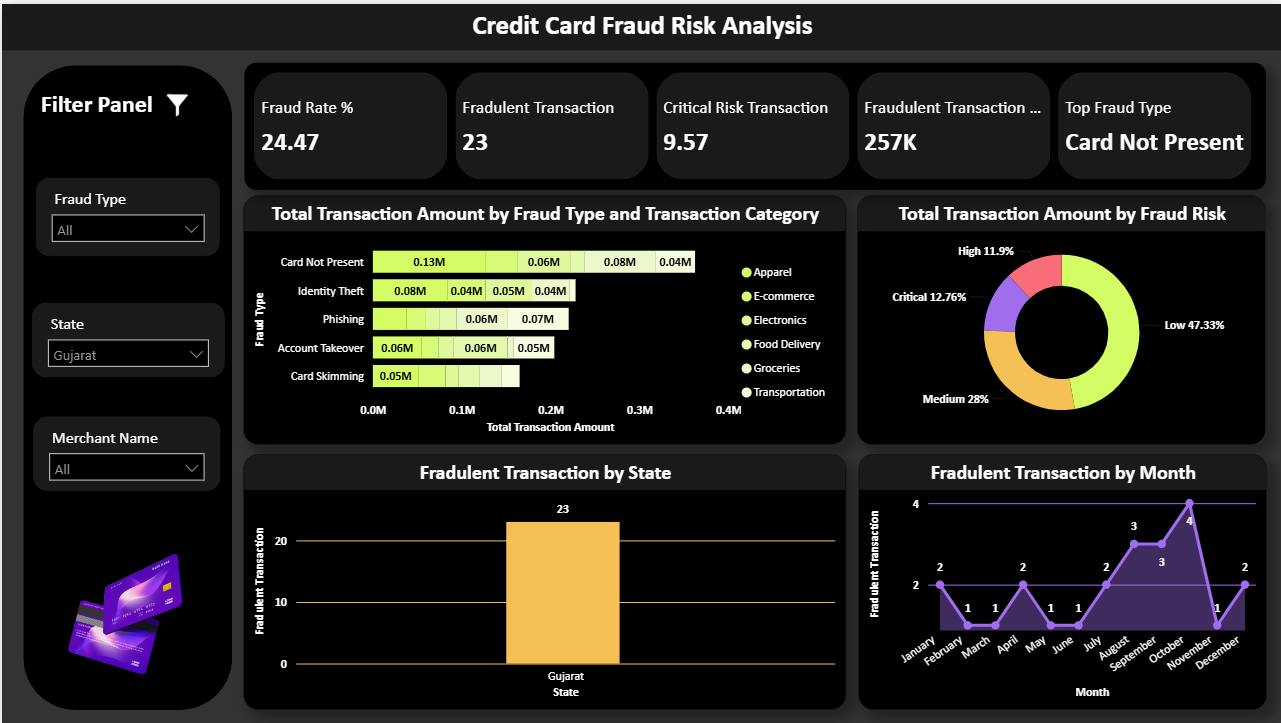

This screenshot's page, from the dashboard's own definition file:
{"tool":"powerbi","page":{"name":"Page 1","canvas":[1280,720],"ordinal":0},"visuals":[{"type":"textbox","box":[0,0,1280.6,46.3],"z":0},{"type":"shape","box":[20.9,61.2,209,644.8],"z":1000},{"type":"textbox","box":[34.3,80.6,141.8,46.3],"z":2000},{"type":"image","box":[144.8,80.6,61.2,43.3],"z":3000},{"type":"barChart","fields":{"Y":["Credit Card Fraud Risk Analysis.Total Transaction Amount"],"Category":["Credit Card Fraud Risk Analysis.Fraud Type"],"Series":["Credit Card Fraud Risk Analysis.Transaction Category"]},"box":[241.8,191,603,249.3],"z":4000},{"type":"donutChart","fields":{"Y":["Credit Card Fraud Risk Analysis.Total Transaction Amount"],"Category":["Credit Card Fraud Risk Analysis.Fraud Risk"]},"box":[855.2,191,409,249.3],"z":5000},{"type":"columnChart","fields":{"Category":["Credit Card Fraud Risk Analysis.State"],"Y":["Credit Card Fraud Risk Analysis.Fradulent Transaction"]},"box":[241.4,450,602.9,255.7],"z":6000},{"type":"lineChart","fields":{"Y":["Credit Card Fraud Risk Analysis.Fradulent Transaction"],"Category":["Credit Card Fraud Risk Analysis.Transaction Date.Variation.Date Hierarchy.Month"]},"box":[855.7,450,408.6,255.7],"z":7000},{"type":"slicer","fields":{"Values":["Credit Card Fraud Risk Analysis.Fraud Type"]},"box":[34.3,174.3,184.3,78.6],"z":8000},{"type":"slicer","fields":{"Values":["Credit Card Fraud Risk Analysis.State"]},"box":[30,298.6,192.9,74.3],"z":9000},{"type":"slicer","fields":{"Values":["Credit Card Fraud Risk Analysis.Merchant Name"]},"box":[31.4,412.9,187.1,74.3],"z":10000},{"type":"image","box":[0,530,191.4,162.9],"z":11000},{"type":"cardVisual","fields":{"Data":["Credit Card Fraud Risk Analysis.Fraud Rate %","Credit Card Fraud Risk Analysis.Fradulent Transaction","Credit Card Fraud Risk Analysis.Critical Risk Transaction","Credit Card Fraud Risk Analysis.Fraudulent Transaction Amount","Credit Card Fraud Risk Analysis.Top Fraud Type"]},"box":[242.9,58.6,1021.4,127.1],"z":12000}]}

Visuals, with their boxes in screenshot pixels (x1, y1, x2, y2), scaled from the page's 1280x720 canvas onto the 1281x723 screenshot:
textbox: x1=0 y1=0 x2=1280 y2=46
shape: x1=21 y1=61 x2=230 y2=709
textbox: x1=34 y1=81 x2=176 y2=127
image: x1=145 y1=81 x2=206 y2=124
barChart - Credit Card Fraud Risk Analysis.Total Transaction Amount x Credit Card Fraud Risk Analysis.Fraud Type: x1=242 y1=192 x2=845 y2=442
donutChart - Credit Card Fraud Risk Analysis.Total Transaction Amount x Credit Card Fraud Risk Analysis.Fraud Risk: x1=856 y1=192 x2=1265 y2=442
columnChart - Credit Card Fraud Risk Analysis.State x Credit Card Fraud Risk Analysis.Fradulent Transaction: x1=242 y1=452 x2=845 y2=709
lineChart - Credit Card Fraud Risk Analysis.Fradulent Transaction x Credit Card Fraud Risk Analysis.Transaction Date.Variation.Date Hierarchy.Month: x1=856 y1=452 x2=1265 y2=709
slicer - Credit Card Fraud Risk Analysis.Fraud Type: x1=34 y1=175 x2=219 y2=254
slicer - Credit Card Fraud Risk Analysis.State: x1=30 y1=300 x2=223 y2=374
slicer - Credit Card Fraud Risk Analysis.Merchant Name: x1=31 y1=415 x2=219 y2=489
image: x1=0 y1=532 x2=192 y2=696
cardVisual - Credit Card Fraud Risk Analysis.Fraud Rate % x Credit Card Fraud Risk Analysis.Fradulent Transaction: x1=243 y1=59 x2=1265 y2=186
